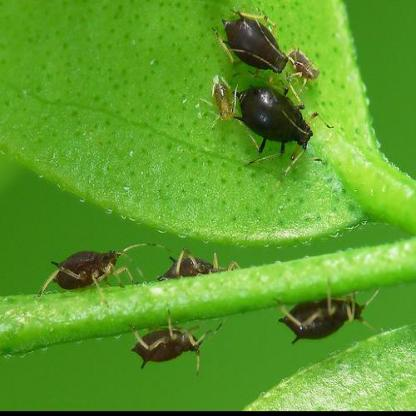aphid: (231, 74, 323, 158), (213, 2, 295, 85), (40, 237, 142, 300), (278, 279, 374, 345), (130, 308, 222, 375), (202, 67, 244, 132), (160, 248, 238, 278), (280, 44, 322, 83)
